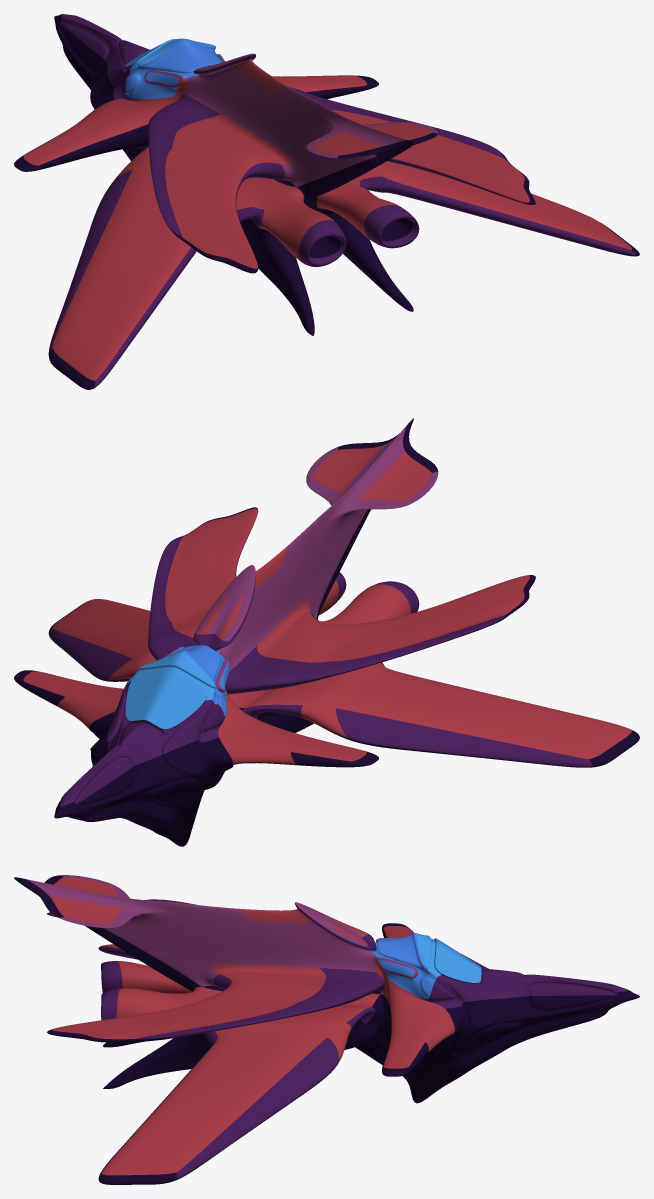
File: Spaceship2.fbx
3 renders of one model, top to bottom at view 1: azimuth 30°, elevation 25°; view 2: azimuth 150°, elevation 25°; view 3: azimuth 270°, elevation 25°, orthographic. The views are drawn at different scales.
Visible parts, largest first — view 1: Ship; view 2: Ship; view 3: Ship.
Boxes of the visible parts, <box> form: Ship: <box>14,14,639,389</box>; Ship: <box>14,418,639,846</box>; Ship: <box>14,875,639,1184</box>.
Size of the model in its own units: 2508 by 2244 by 998.
